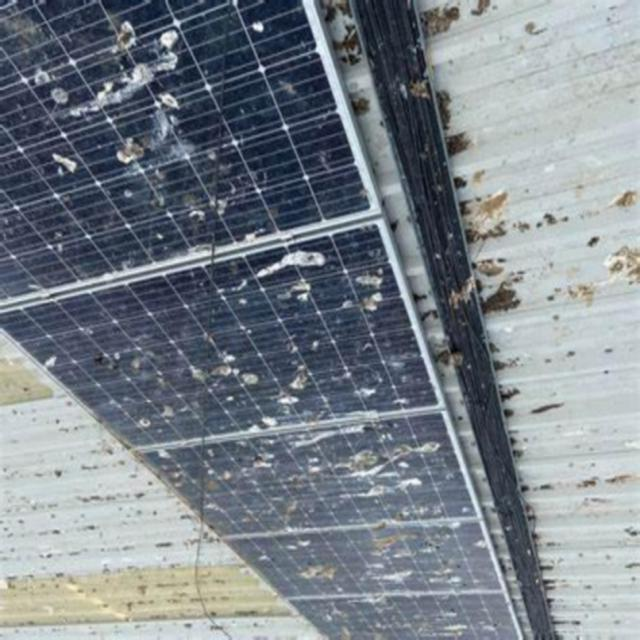soiled: (0, 0, 517, 637)
